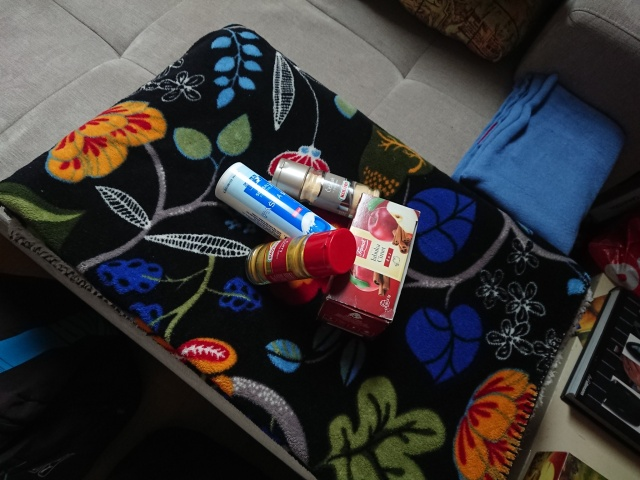Franck Apple Cinnamon Tea 60g: (313, 189, 425, 343)
Kotanyi Curry Spices Mix 70g: (243, 226, 359, 288)
Kotanyi Garlic Granules 70g: (269, 156, 384, 224)
Solana Pag Fine Sea Salt 250g: (212, 159, 354, 265)
